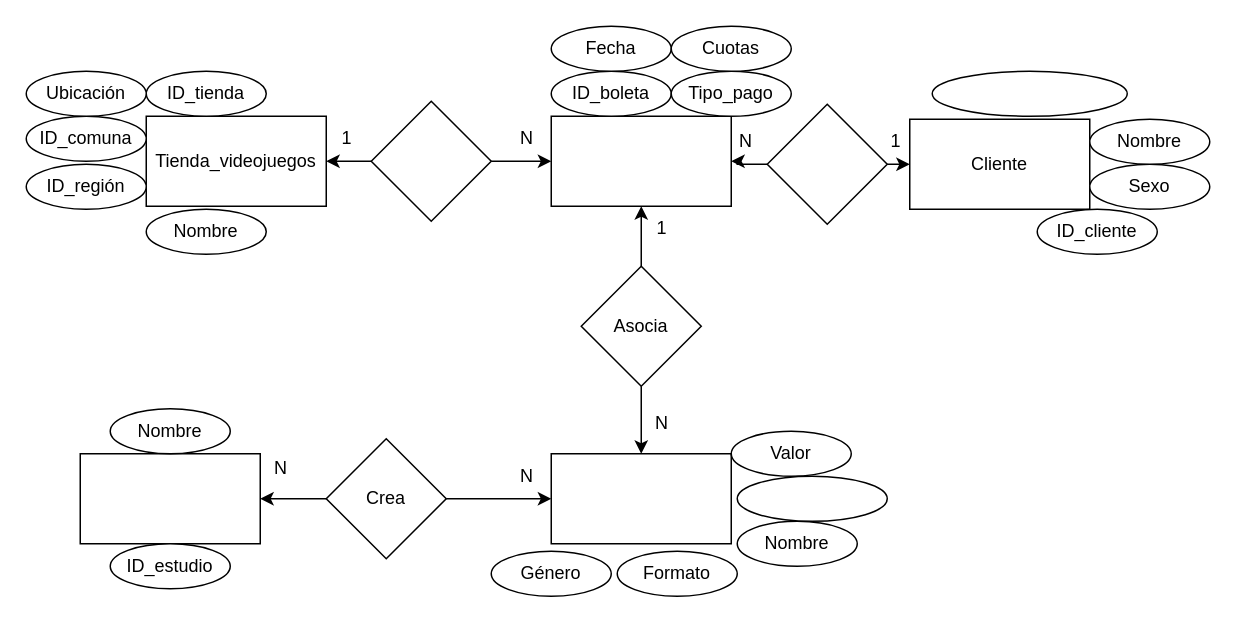
Some shapes in this 1236 by 623 pixel diagram are drawn without their labels. The shapes that lost their labels are listed below. From the top down, each one's centre as x and y in pixels, then its label:
At pixel 1029 93: "Fecha_nacimiento".
At pixel 430 160: "Emite".
At pixel 640 160: "Boleta".
At pixel 826 163: "Recibe".
At pixel 169 498: "Estudio".
At pixel 640 498: "Videojuego".
At pixel 811 498: "ID_videojuegoi".
